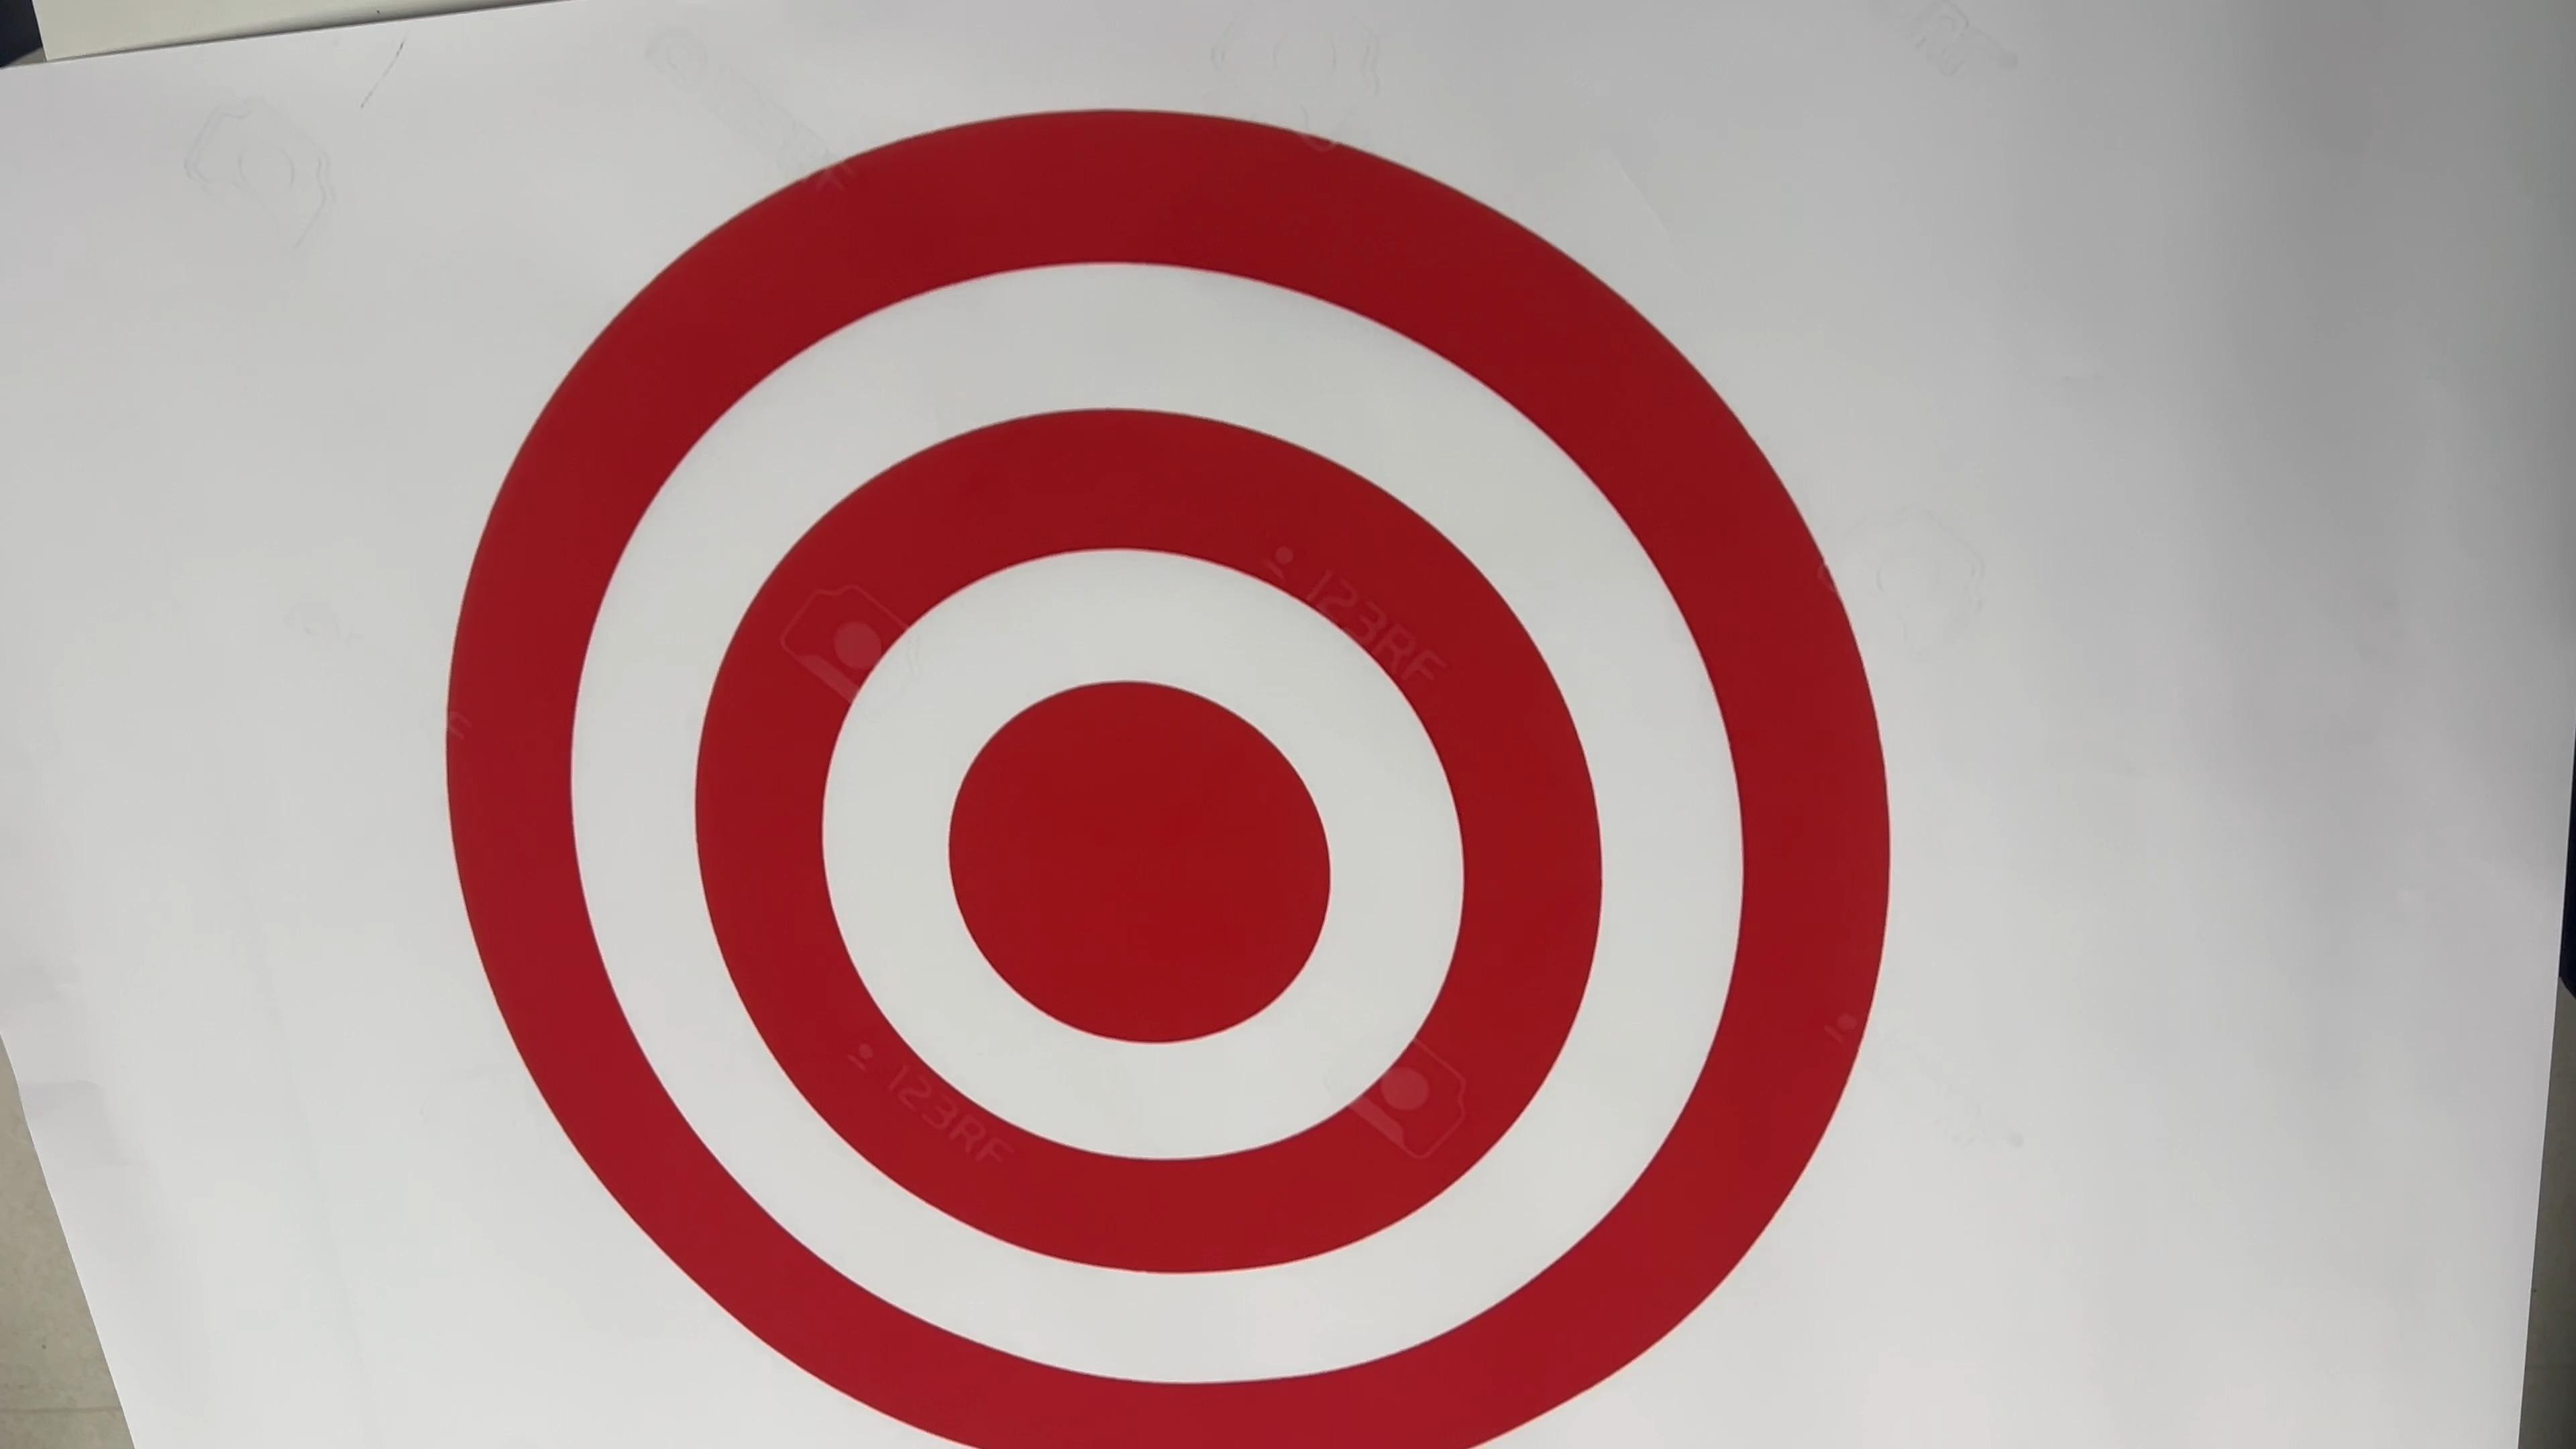target_red: (370, 71, 1936, 1449)
